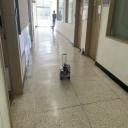cart: (59, 66, 71, 80)
